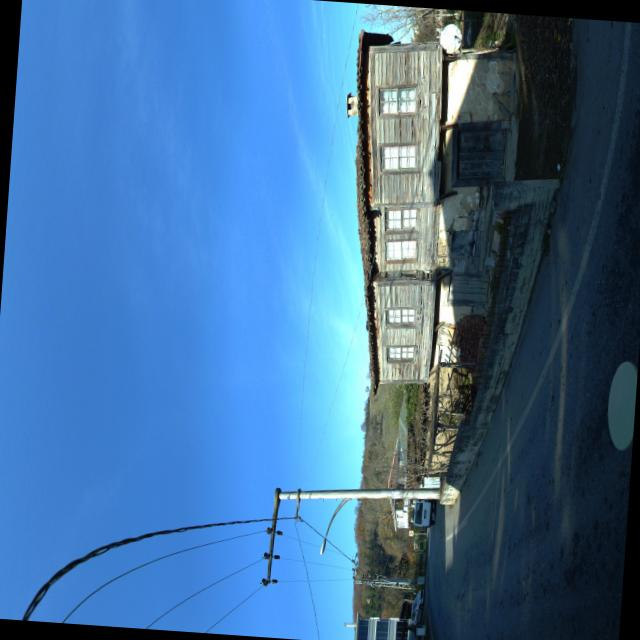Utility Pole Information Plate: (396, 581, 398, 583)
